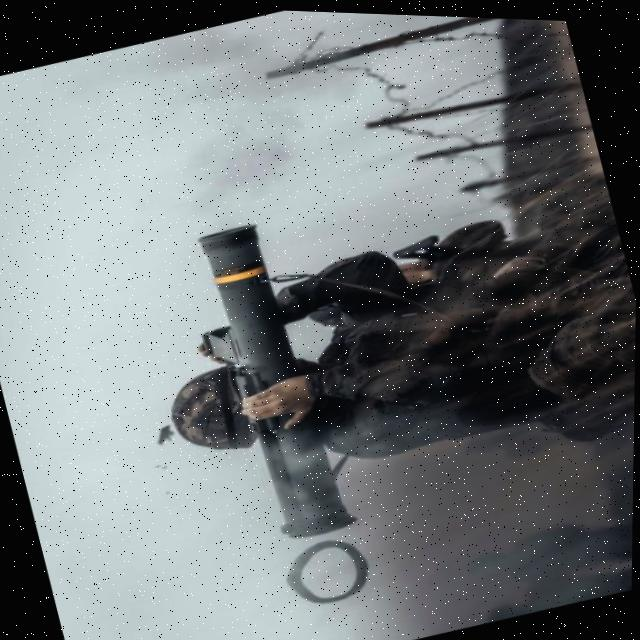rocket: (188, 208, 368, 548)
